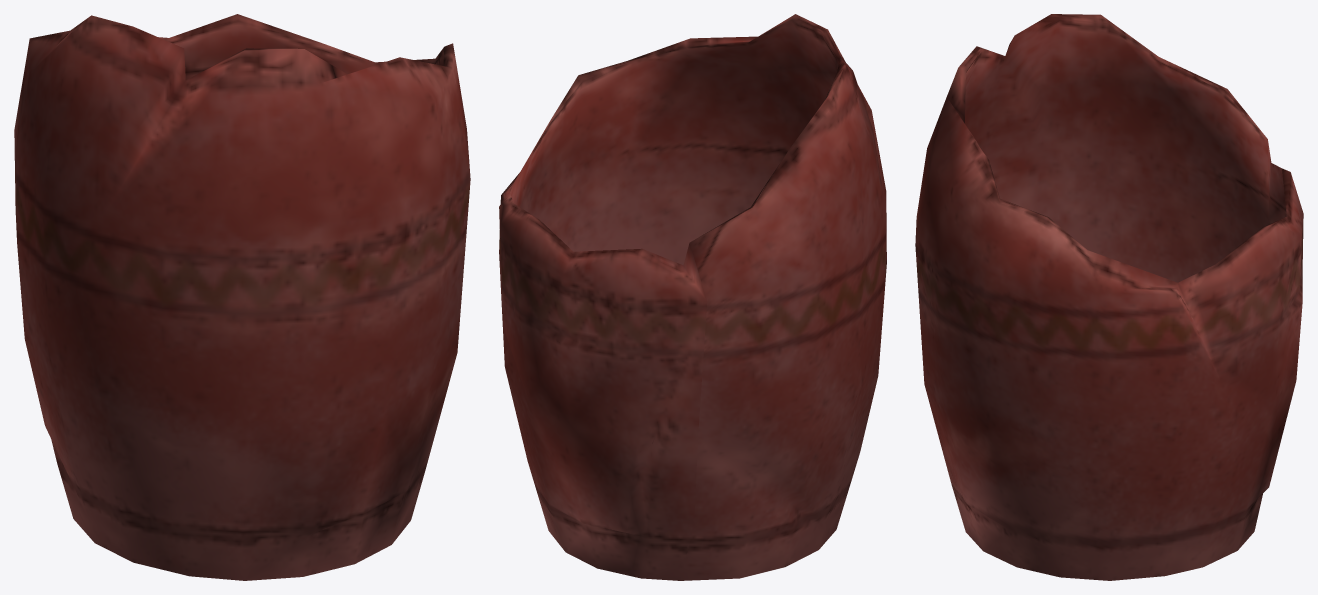
Rendered from a broken jug.FBX.
3 renders of one model, left to right at view 1: azimuth 30°, elevation 25°; view 2: azimuth 150°, elevation 25°; view 3: azimuth 270°, elevation 25°, orthographic. The views are drawn at different scales.
Parts seen in each view (by area): view 1: Group39986; view 2: Group39986; view 3: Group39986.
Part boxes in pixels (bbox=[...]): Group39986: bbox=[14, 14, 470, 580]; Group39986: bbox=[499, 14, 886, 580]; Group39986: bbox=[915, 14, 1303, 580].
Size of the model in its own units: 428 by 562 by 440.
1 material, 1 textured.
